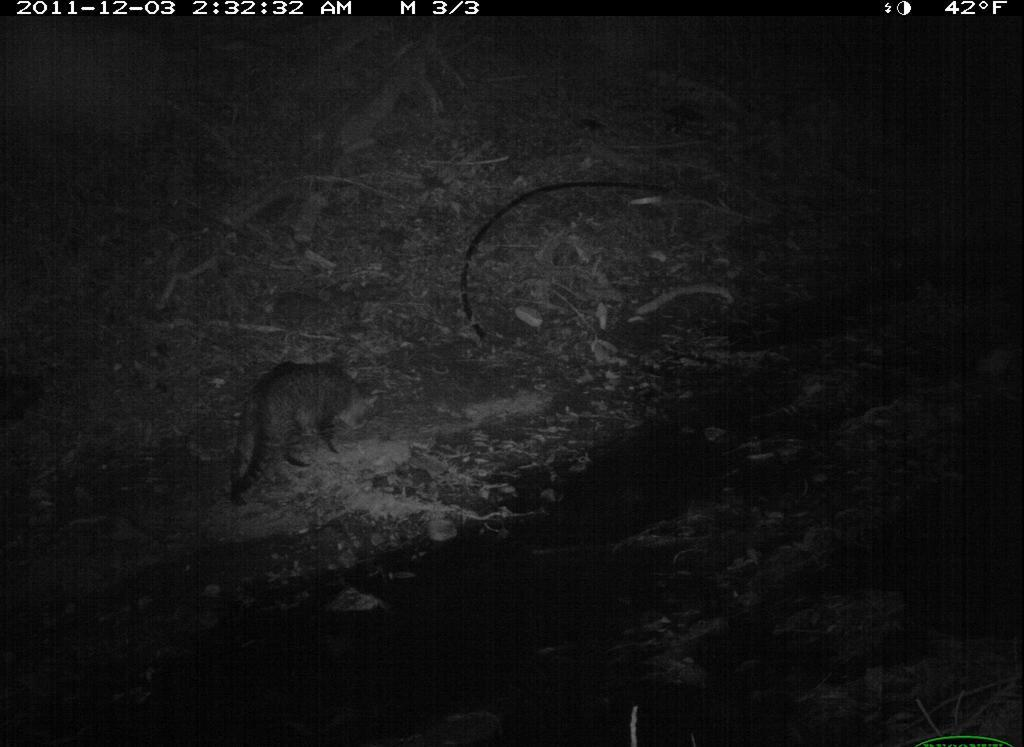cat: (221, 353, 379, 500)
